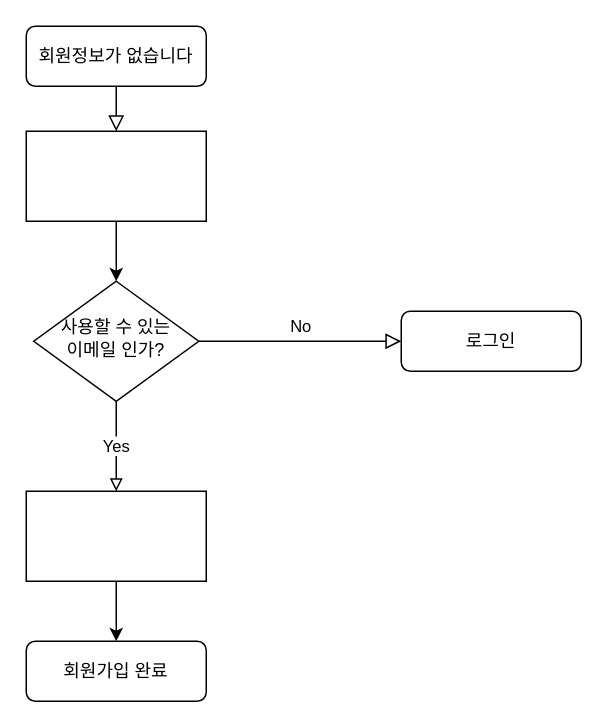
Image size: 608x728. Some labels were removed from this diagram. The shapes that lost their labels are listed below. From the top down, each one's centre as x and y in pixels, then its label:
At [115,175]: "이메일 인증".
At [115,535]: "회원정보 입력".
